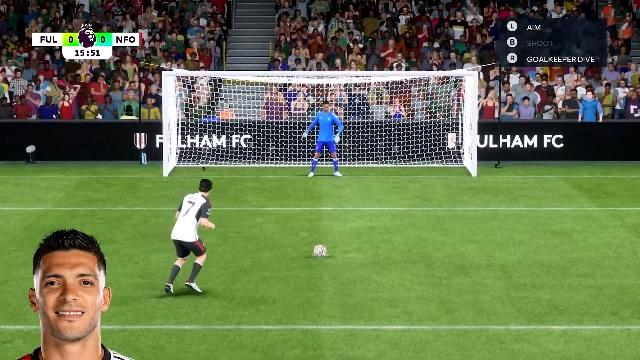bottom-left: (169, 128, 275, 178)
bottom-right: (374, 127, 472, 177)
center-down: (277, 126, 373, 178)
center-up: (276, 78, 374, 126)
circle: (314, 256, 326, 256)
football: (314, 246, 326, 254)
goalkeeper: (302, 101, 344, 179)
player: (164, 178, 216, 296)
top-left: (168, 77, 276, 127)
top-right: (376, 78, 472, 124)
